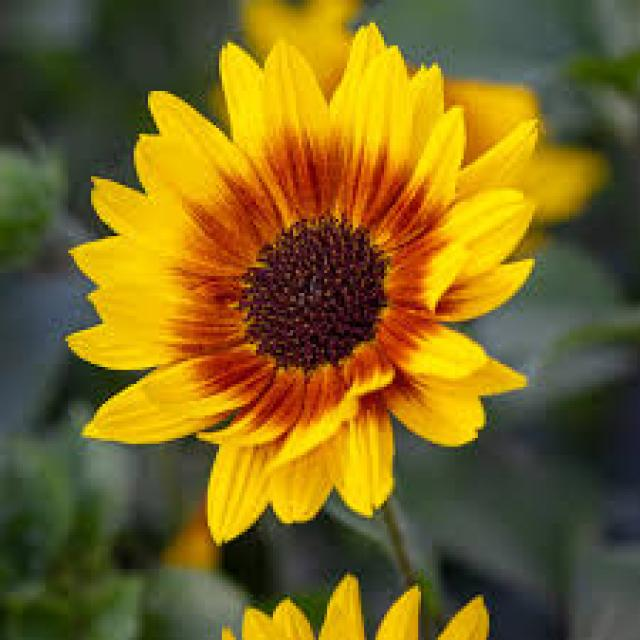sunflower: (61, 19, 550, 550), (192, 0, 619, 282), (216, 568, 499, 640)
